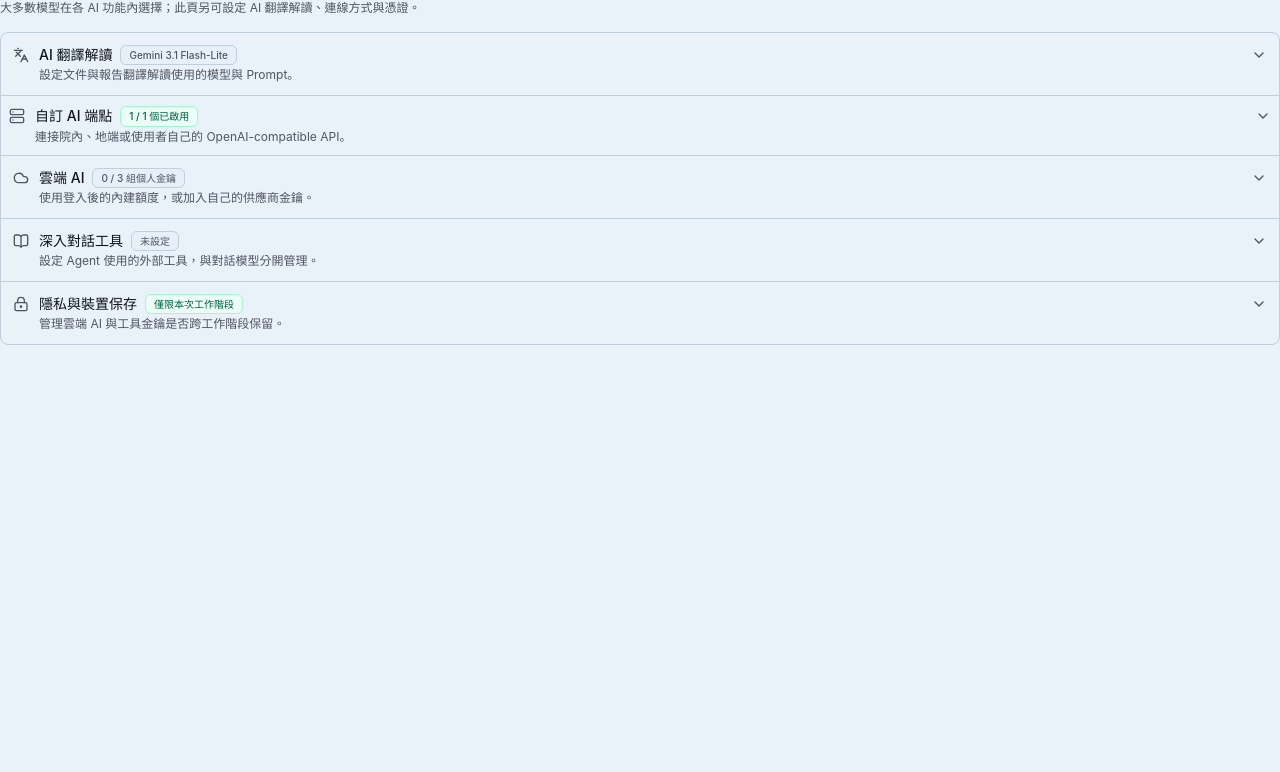
ModelAndKeySettings progressive disclosure › shows only the public Firebase Gateway providers
What coordinates should you click on to do the following:
click the button "自訂 AI 端點 1 / 1 個已啟用 連接院內、地端或使用者自己的 OpenAI-compatible API。"
I would click on:
 (74, 116)
Its box is 9,96 -> 1271,155.
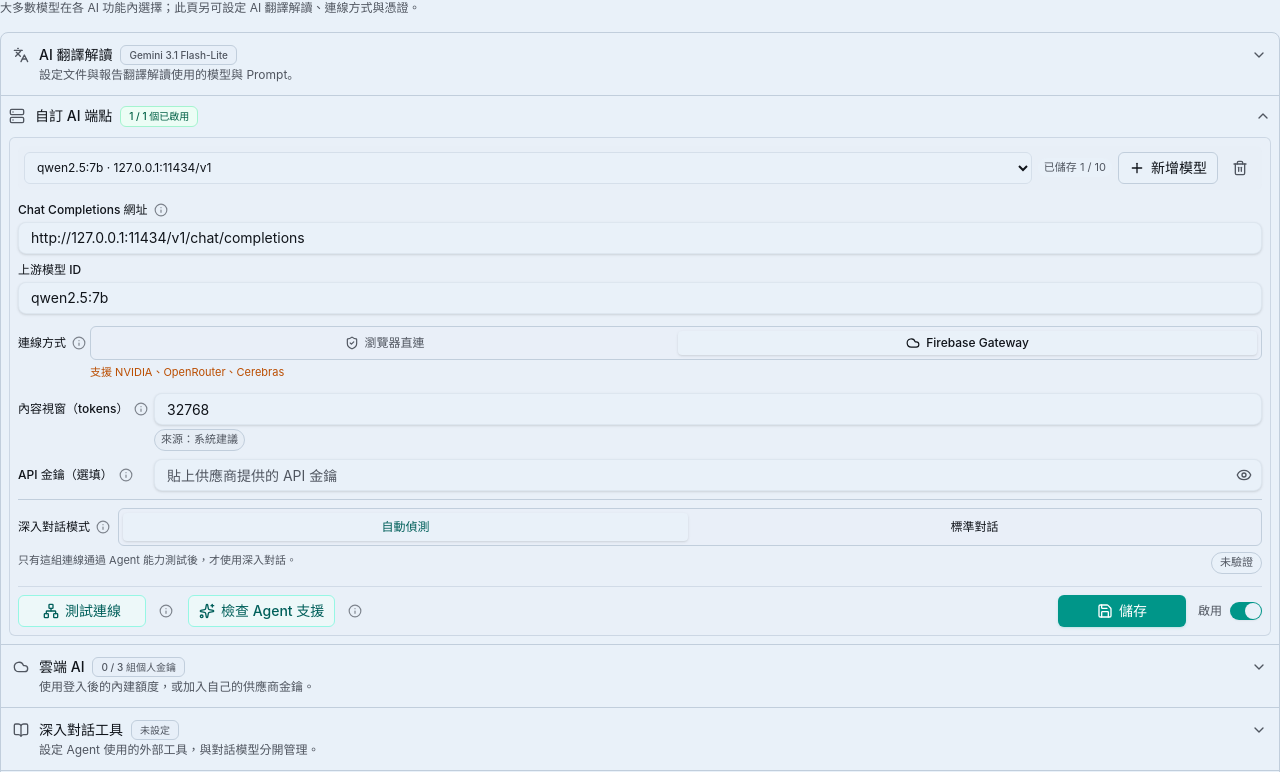
Now the text "支援 NVIDIA、OpenRouter、Cerebras" is shown, box 90,365 -> 284,379
